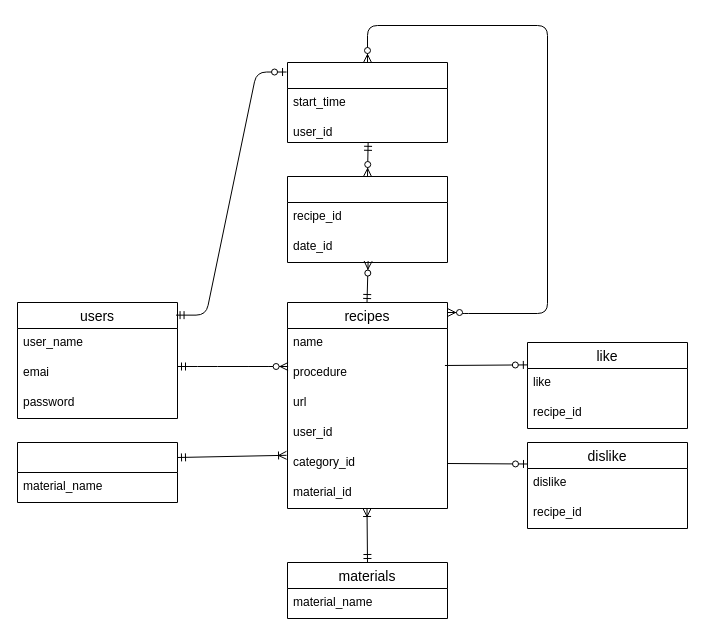
The diagram is 705 pixels wide and 639 high, and some of its shapes have lost their labels. The box of each missing label's shape, as (x1, y1, x2, y2) in pixels:
categories: (16, 442, 178, 502)
cooking_dates: (286, 62, 448, 142)
recipe_cookingdates: (286, 176, 448, 262)
